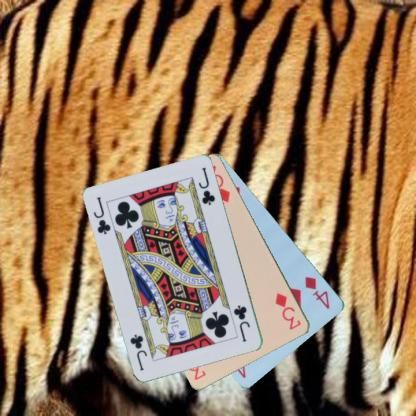3d: (272, 290, 302, 331)
4d: (302, 274, 332, 310)
Jc: (90, 194, 112, 236), (231, 303, 252, 343)
